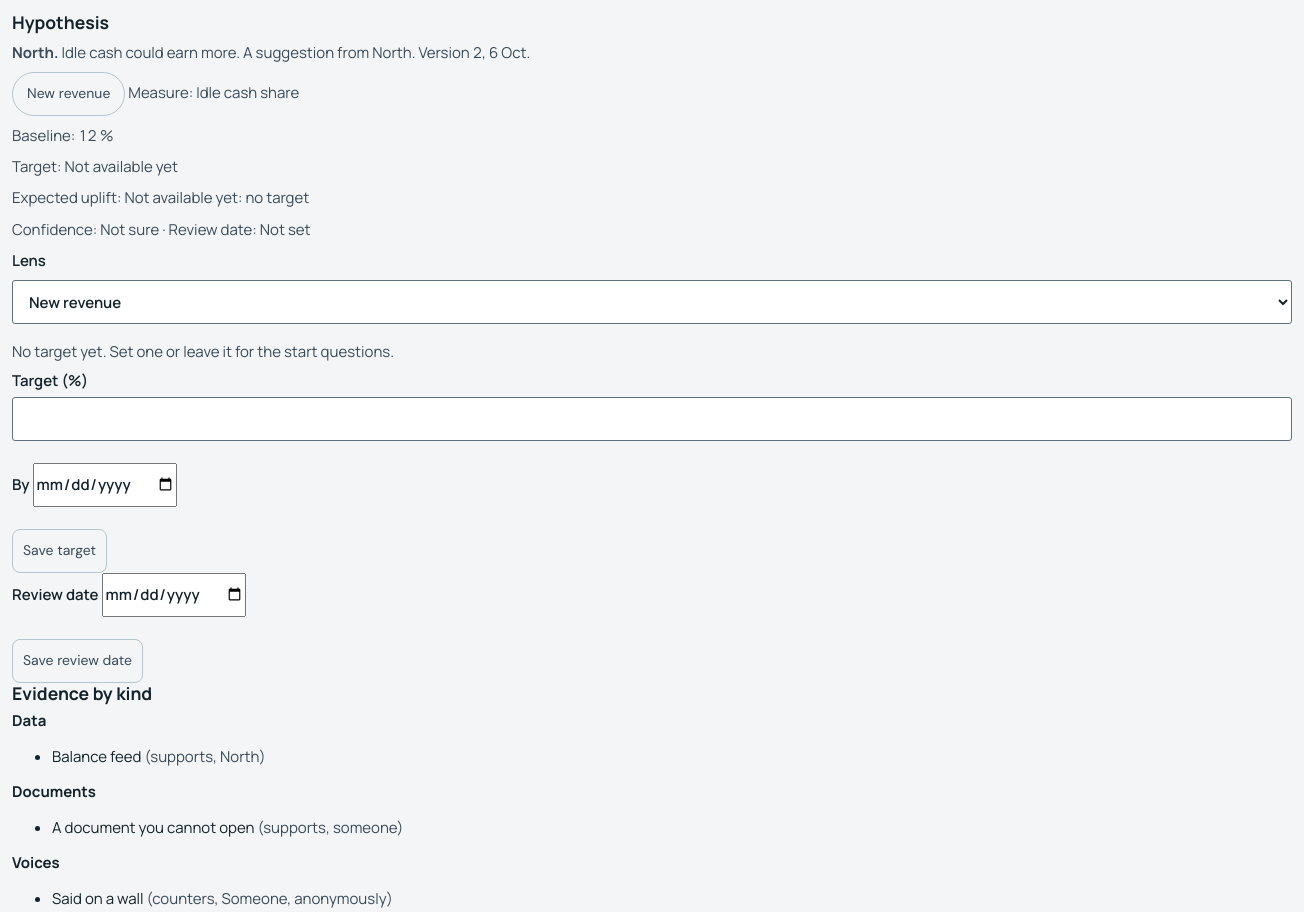
Test: drawer regions: hypothesis, evidence by kind (anonymous and restricted never shown), counter check, and a new version on save
Check: the text "Idle cash could earn more" is shown, box [62,42,240,63]
Check: the text "Expected uplift: Not available yet: no target" is shown, box [12,188,309,208]
Type "8" into the number field labelled "Target (%)" at (652, 419), box [12,397,1292,441]
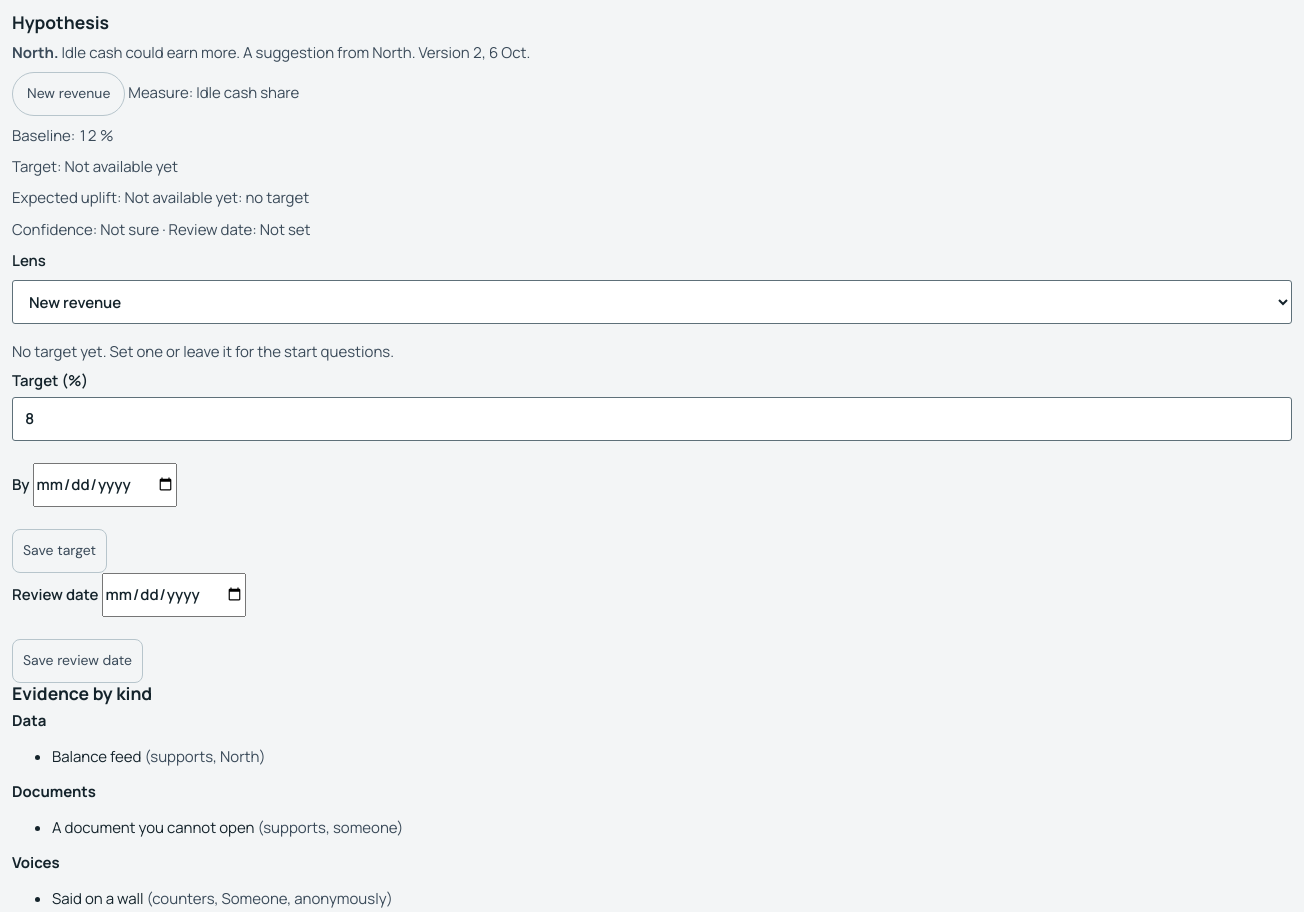
Type "2026-12-31" into the date field labelled "By" at (105, 485), box [33,463,177,507]
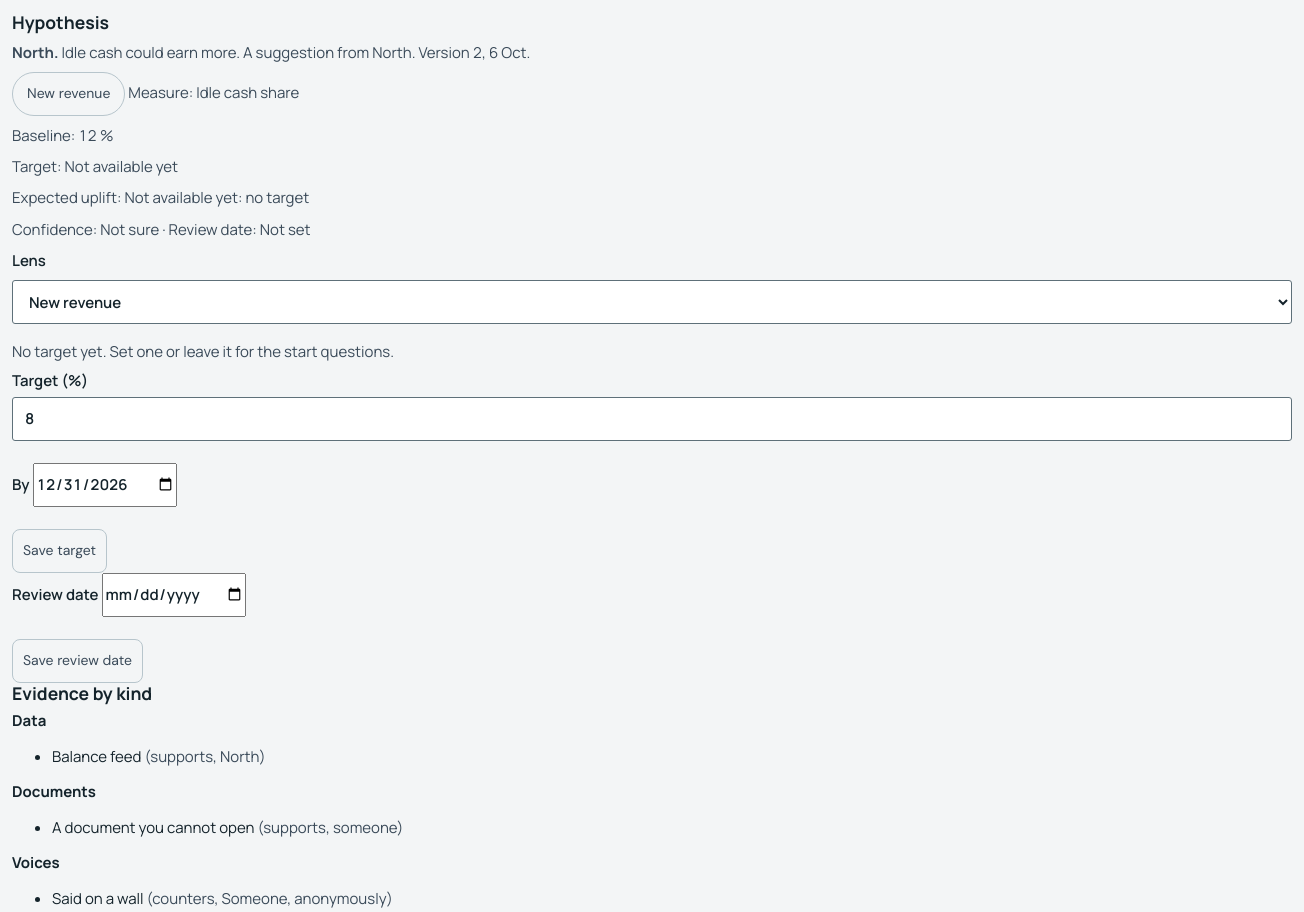
Click the button "Save target" at (60, 551), box [12,529,107,573]
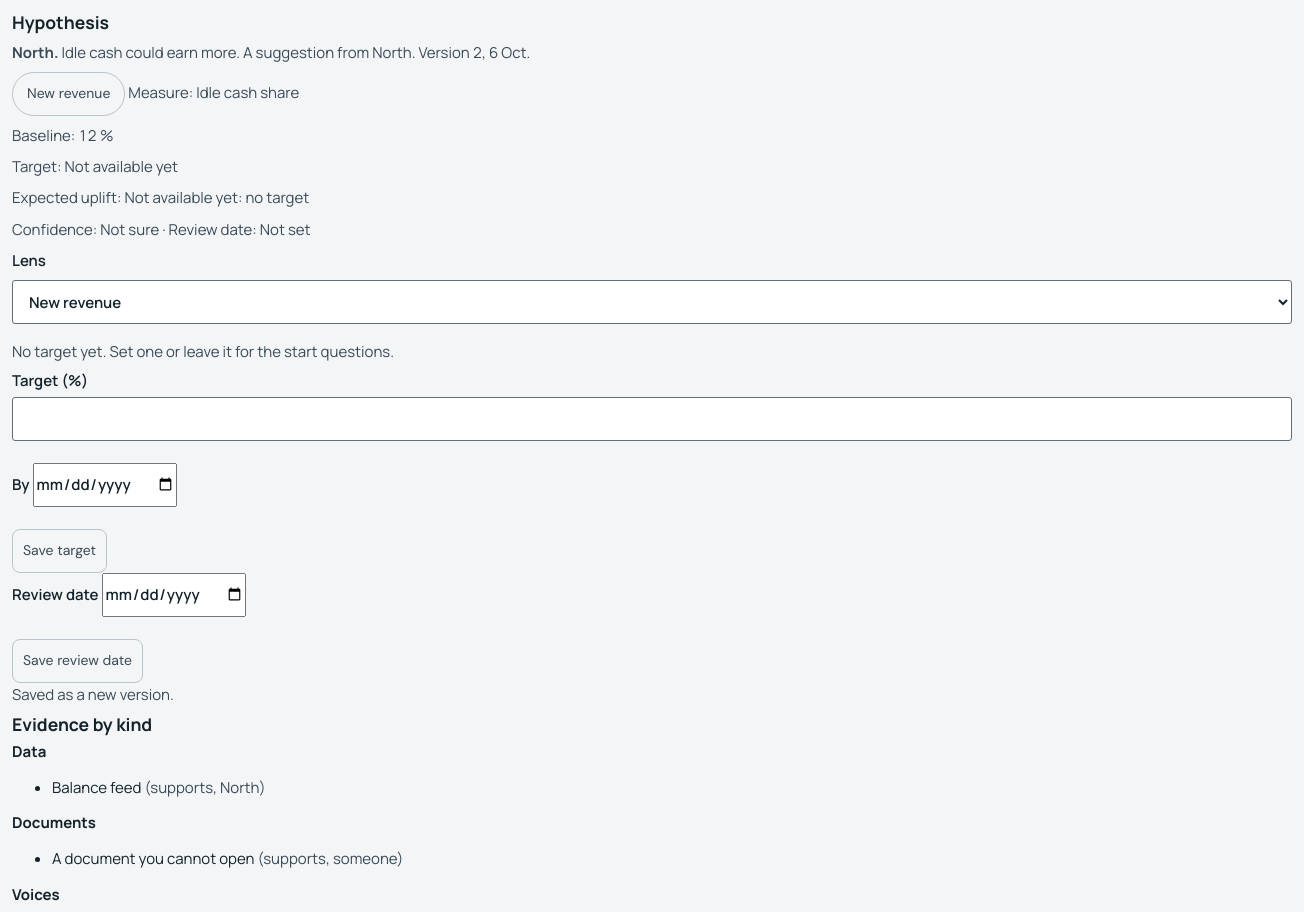
Check: the text "Saved as a new version." is shown, box [12,684,174,705]
